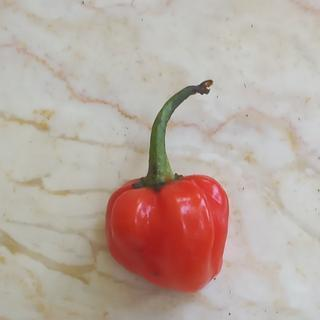Grade-B: (105, 173, 227, 289)
